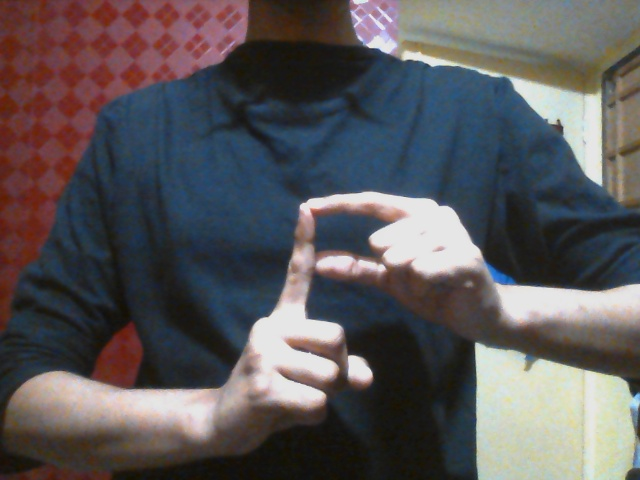P: (225, 191, 474, 457)
